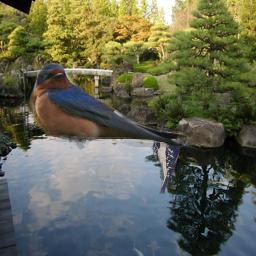Swallow: (30, 63, 203, 152)
Woodpecker: (151, 127, 180, 194)
